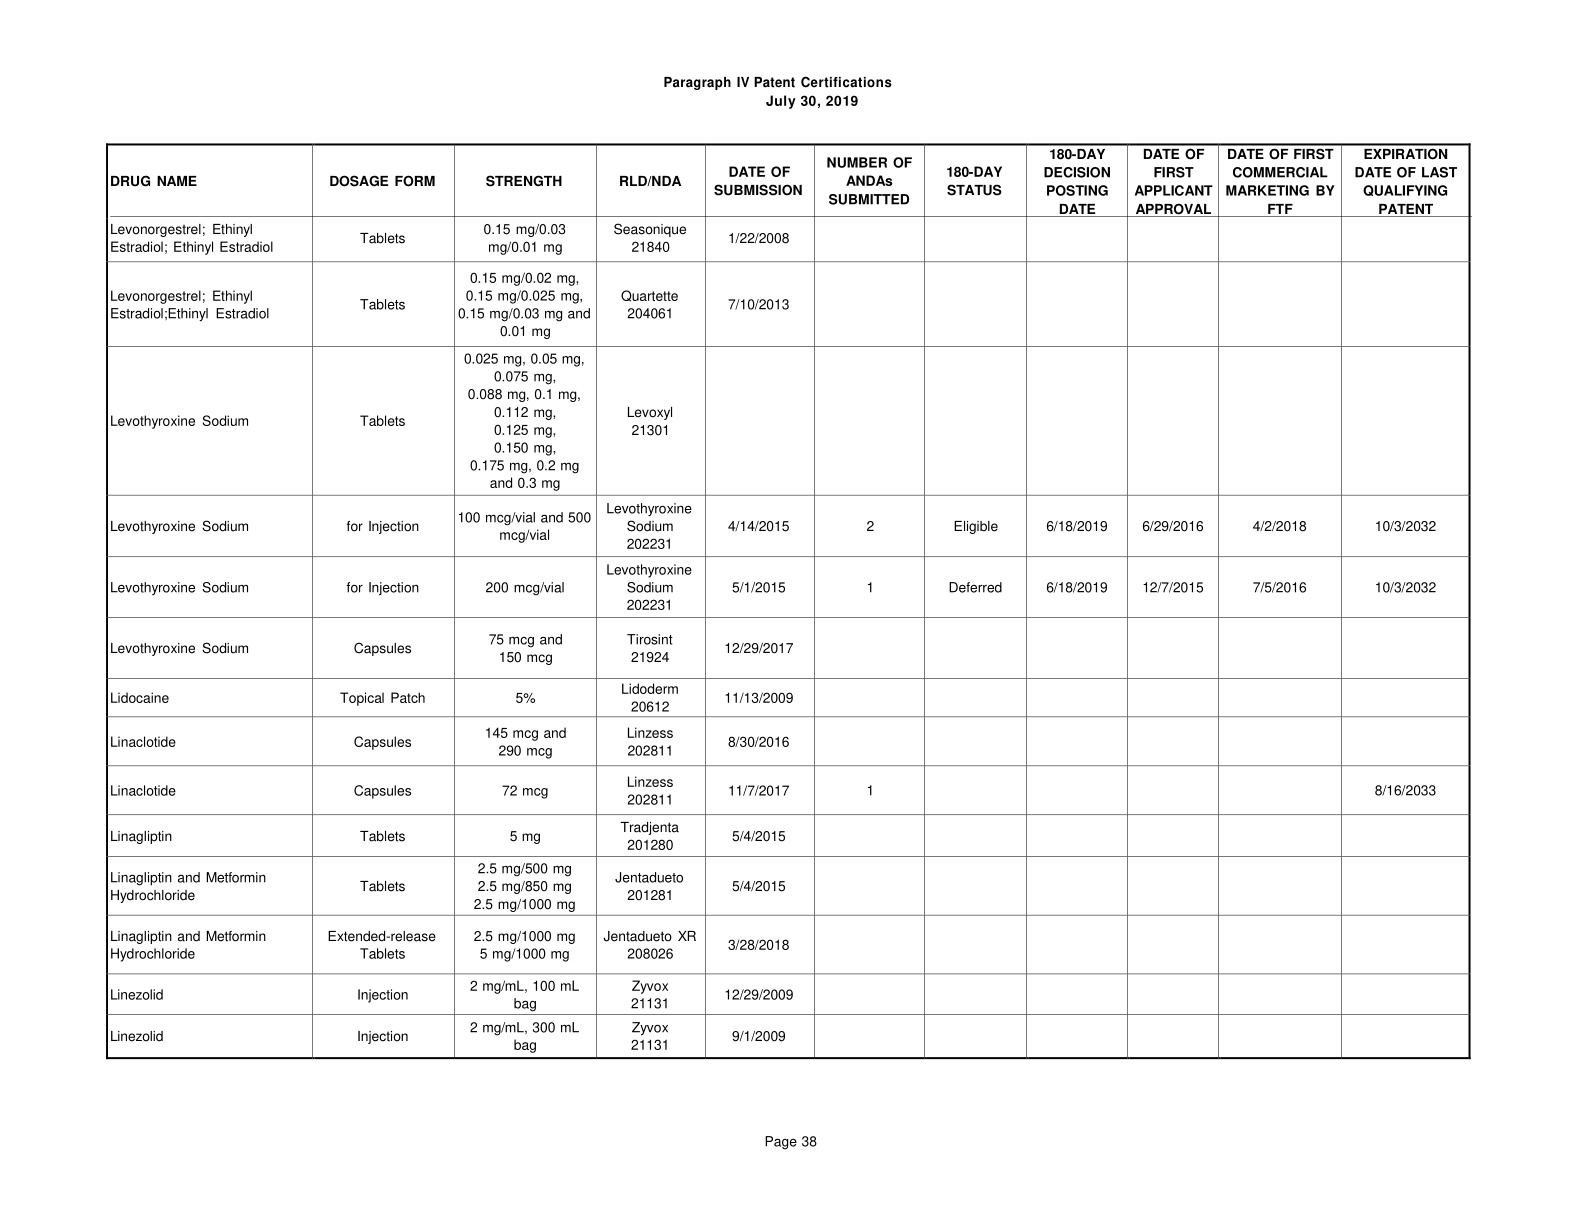full_lined: (104, 141, 1471, 1059)
